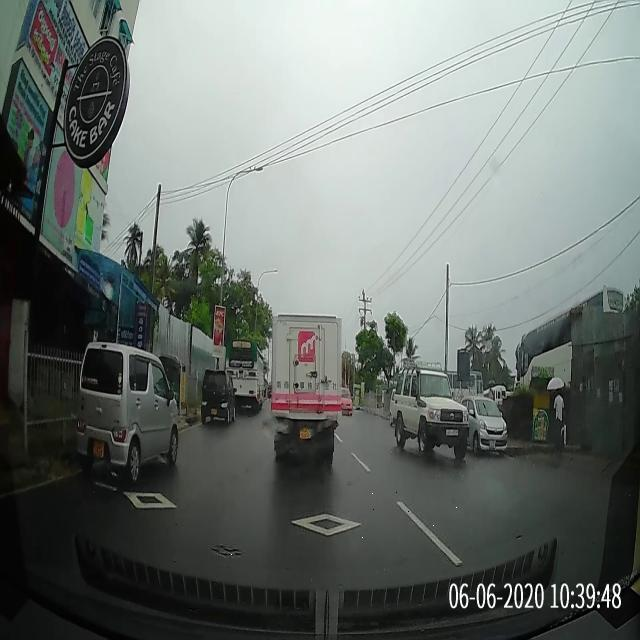diamond: (213, 482, 469, 564)
